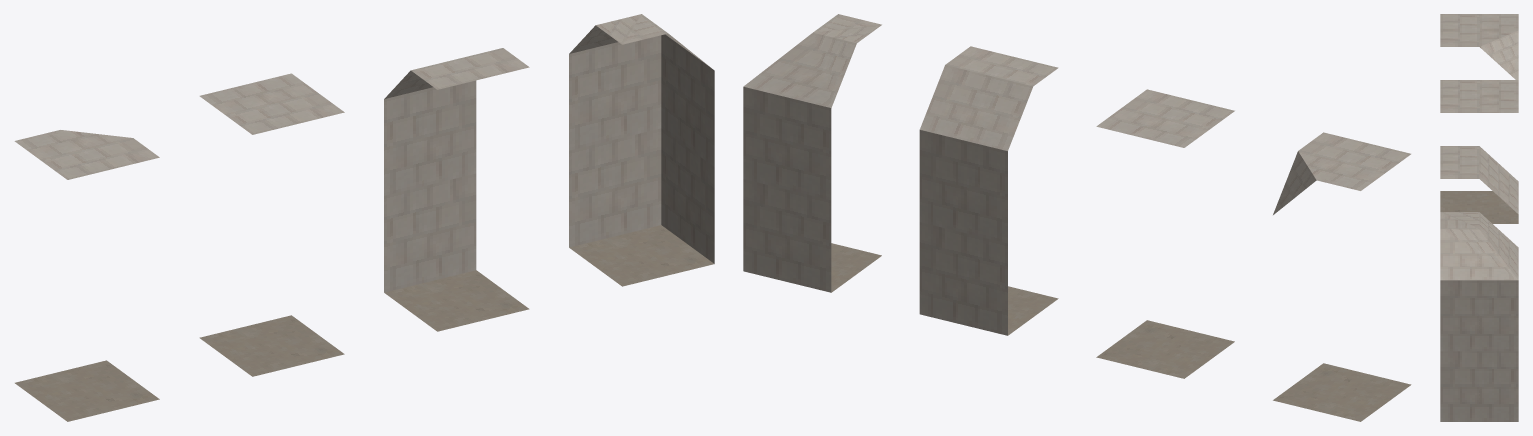
File: testTiles.glb
3 views of the same model, side by side, from view 1: azimuth 30°, elevation 25°; view 2: azimuth 150°, elevation 25°; view 3: azimuth 270°, elevation 25° (orthographic). The views are drawn at different scales.
Visible parts, largest first — view 1: cornerIn-col, wall-col, floor-col, cornerOut-col; view 2: wall-col, cornerIn-col, cornerOut-col, floor-col; view 3: cornerIn-col, cornerOut-col, wall-col, floor-col.
Boxes of the visible parts, x1,y1,x2,y2 form: cornerIn-col: (569,14,714,286); wall-col: (384,48,529,331); floor-col: (199,73,344,376); cornerOut-col: (14,130,159,421); wall-col: (919,46,1058,335); cornerIn-col: (743,14,881,292); cornerOut-col: (1273,132,1411,421); floor-col: (1096,89,1234,378); cornerIn-col: (1440,212,1518,421); cornerOut-col: (1440,14,1518,223); wall-col: (1440,146,1518,213); floor-col: (1440,80,1518,112).
Bounding box in the file's own units: 7 × 2.5 × 1.
Materials: 1 (1 with a texture image).
